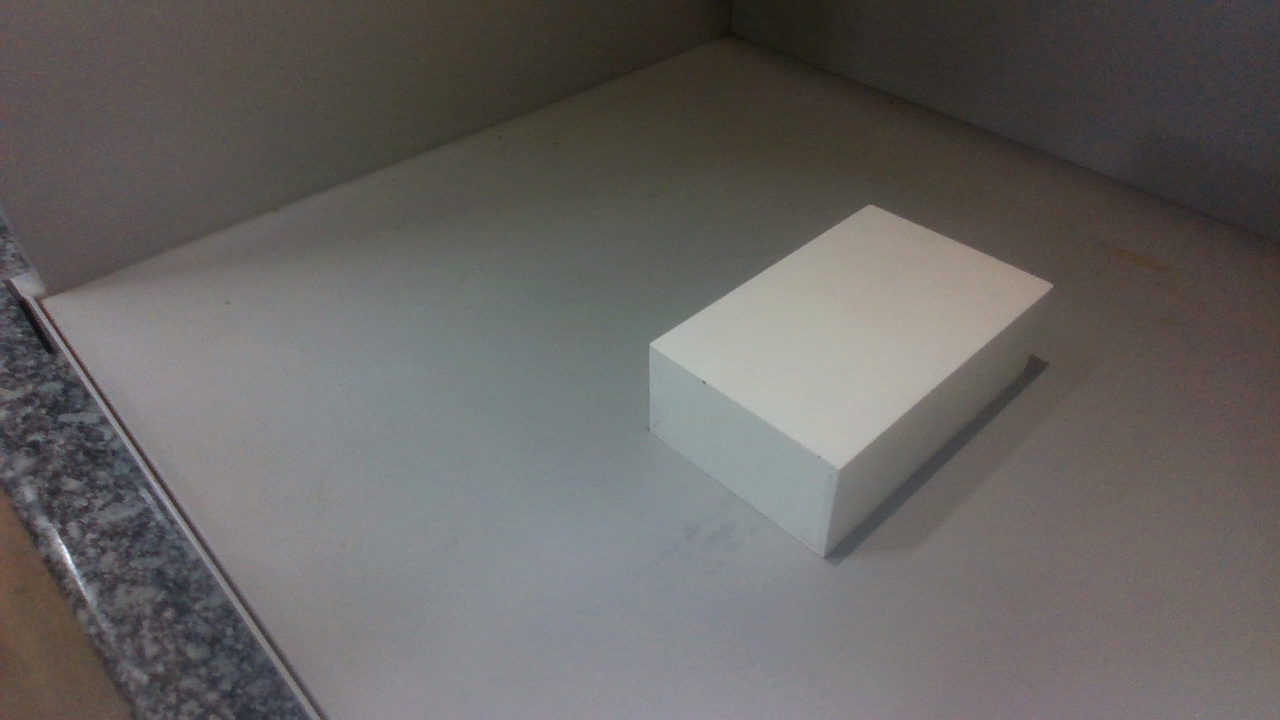Retangulo: (649, 206, 1051, 555)
